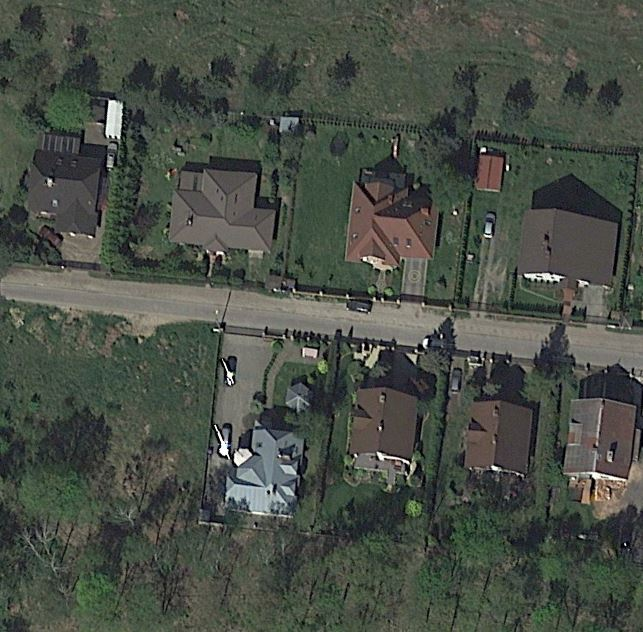family house: (338, 162, 444, 276), (167, 164, 281, 261), (221, 413, 313, 522), (514, 205, 622, 291), (22, 138, 111, 241), (348, 385, 422, 489), (561, 395, 640, 483), (461, 397, 536, 480)
